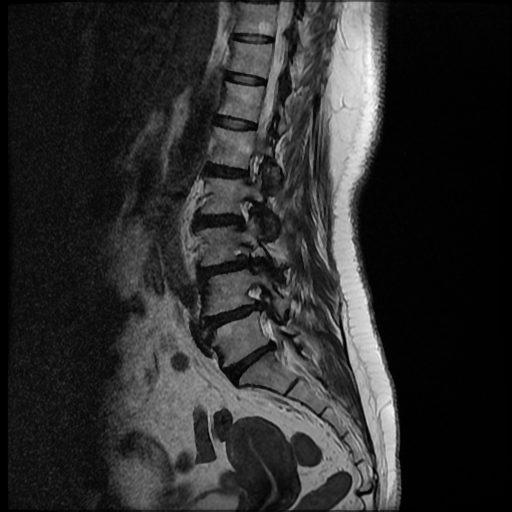LFS0: (224, 192, 266, 238)
LFS3: (224, 242, 272, 278)
